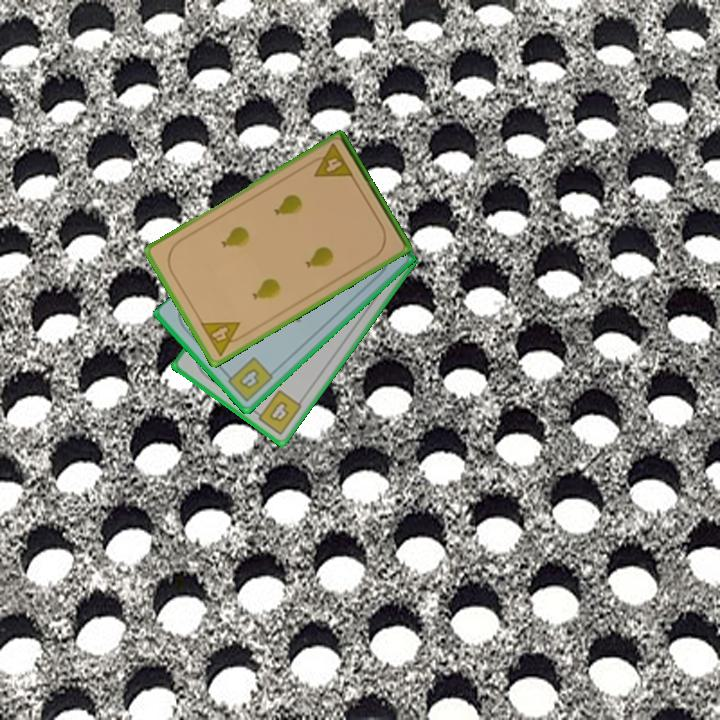4b: (249, 386, 305, 438), (221, 353, 276, 405)
4p: (197, 318, 250, 359), (305, 140, 356, 181)
